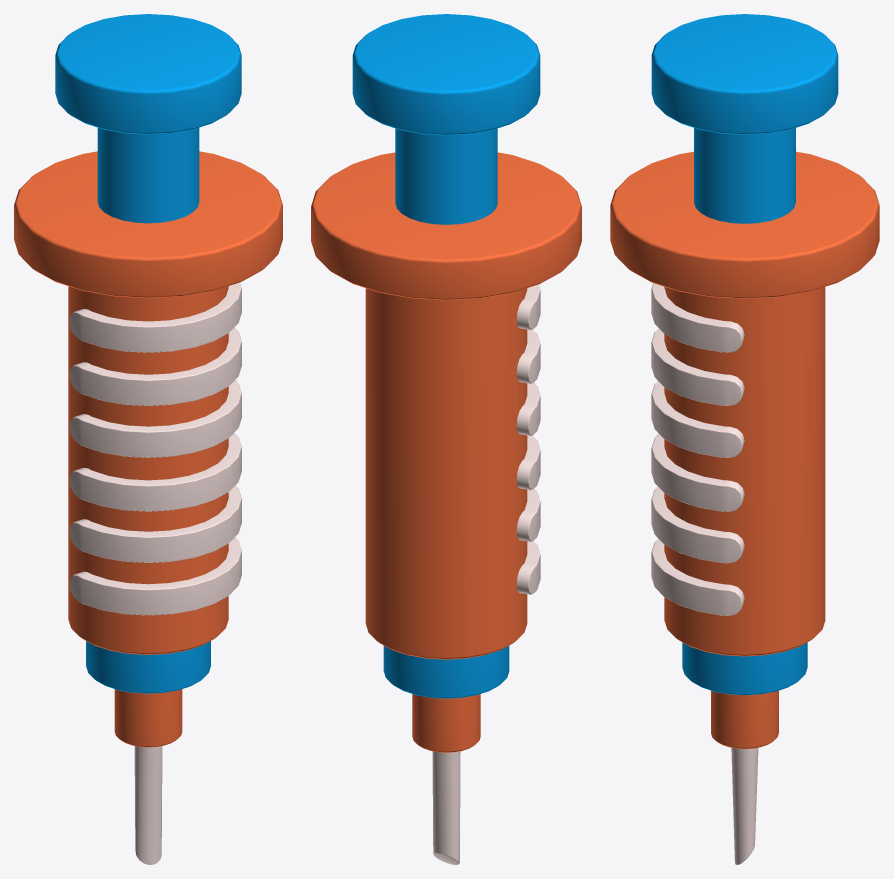
Rendered from Store_15_Medicine_Syringe_1.glb.
3 views of the same model, side by side, from view 1: azimuth 30°, elevation 25°; view 2: azimuth 150°, elevation 25°; view 3: azimuth 270°, elevation 25° (orthographic).
Visible parts, largest first — view 1: Store_15_Medicine_Syringe_1; view 2: Store_15_Medicine_Syringe_1; view 3: Store_15_Medicine_Syringe_1.
Boxes of the visible parts, x1,y1,x2,y2 form: Store_15_Medicine_Syringe_1: [14, 14, 282, 864]; Store_15_Medicine_Syringe_1: [311, 14, 581, 864]; Store_15_Medicine_Syringe_1: [610, 14, 879, 864].
Size of the model in its own units: 1.07 by 3.57 by 1.07.
Materials: 1 (1 with a texture image).
